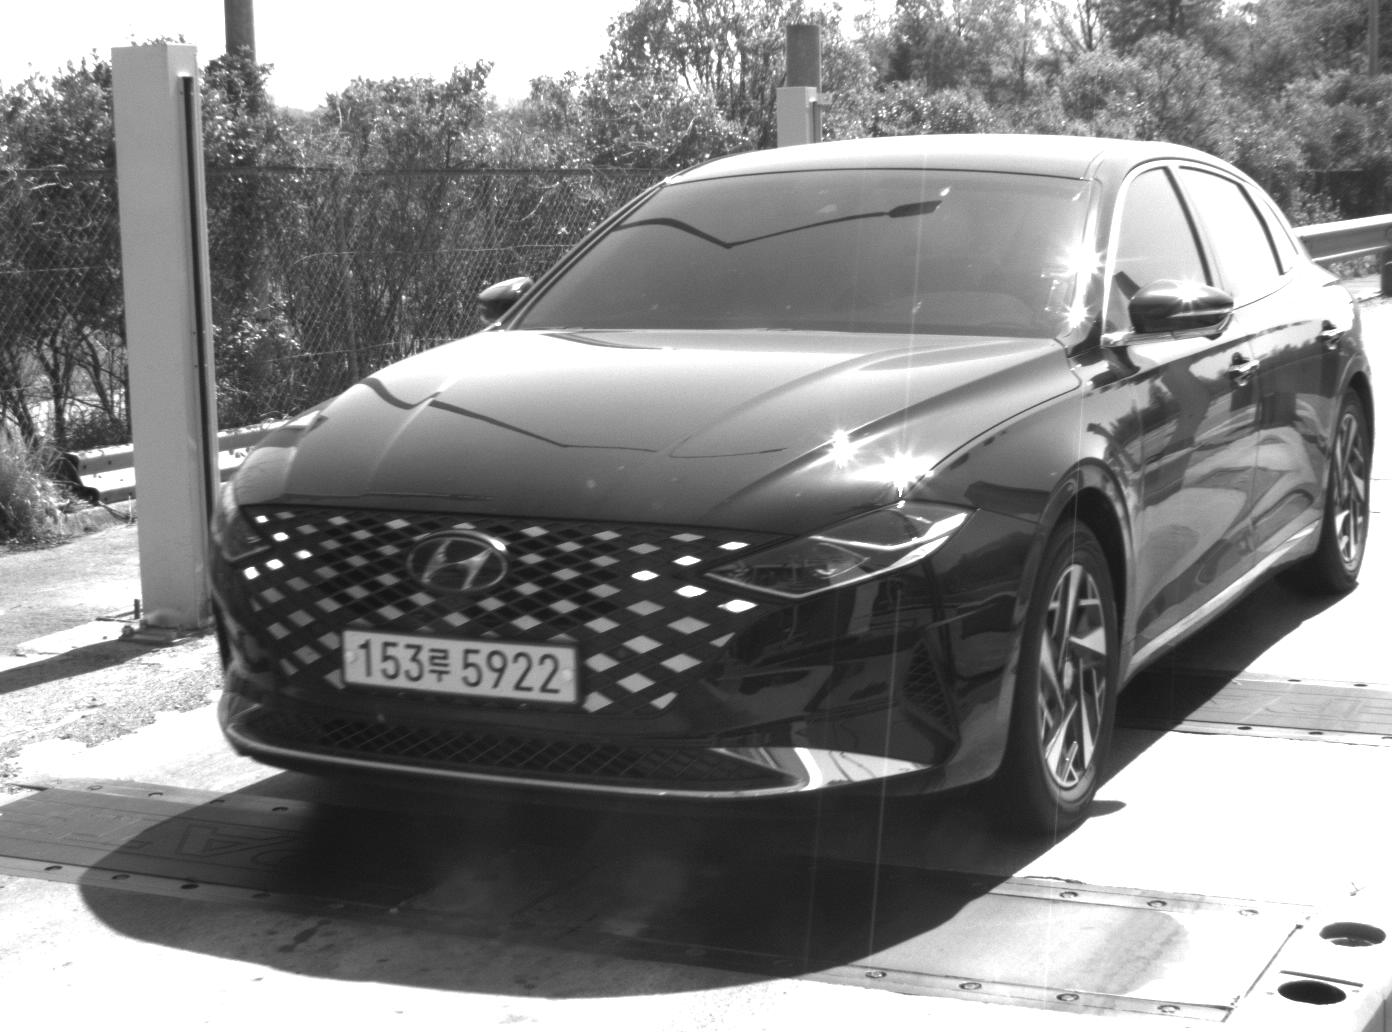car: (203, 122, 1381, 852)
plate: (339, 624, 579, 706)
